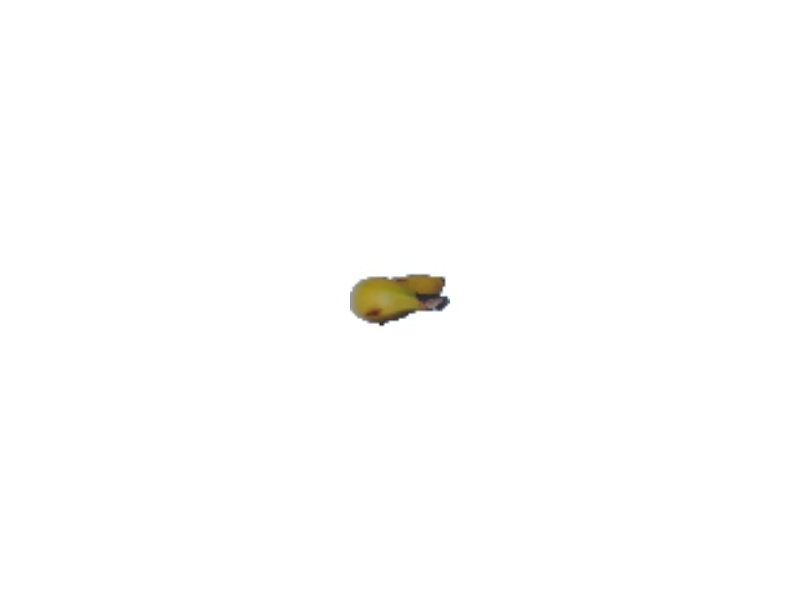banana: (348, 268, 456, 330)
